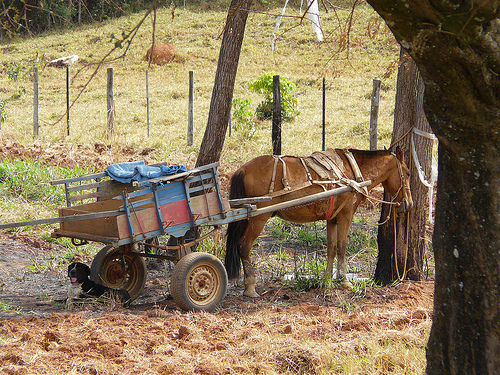horse: (227, 147, 412, 301)
